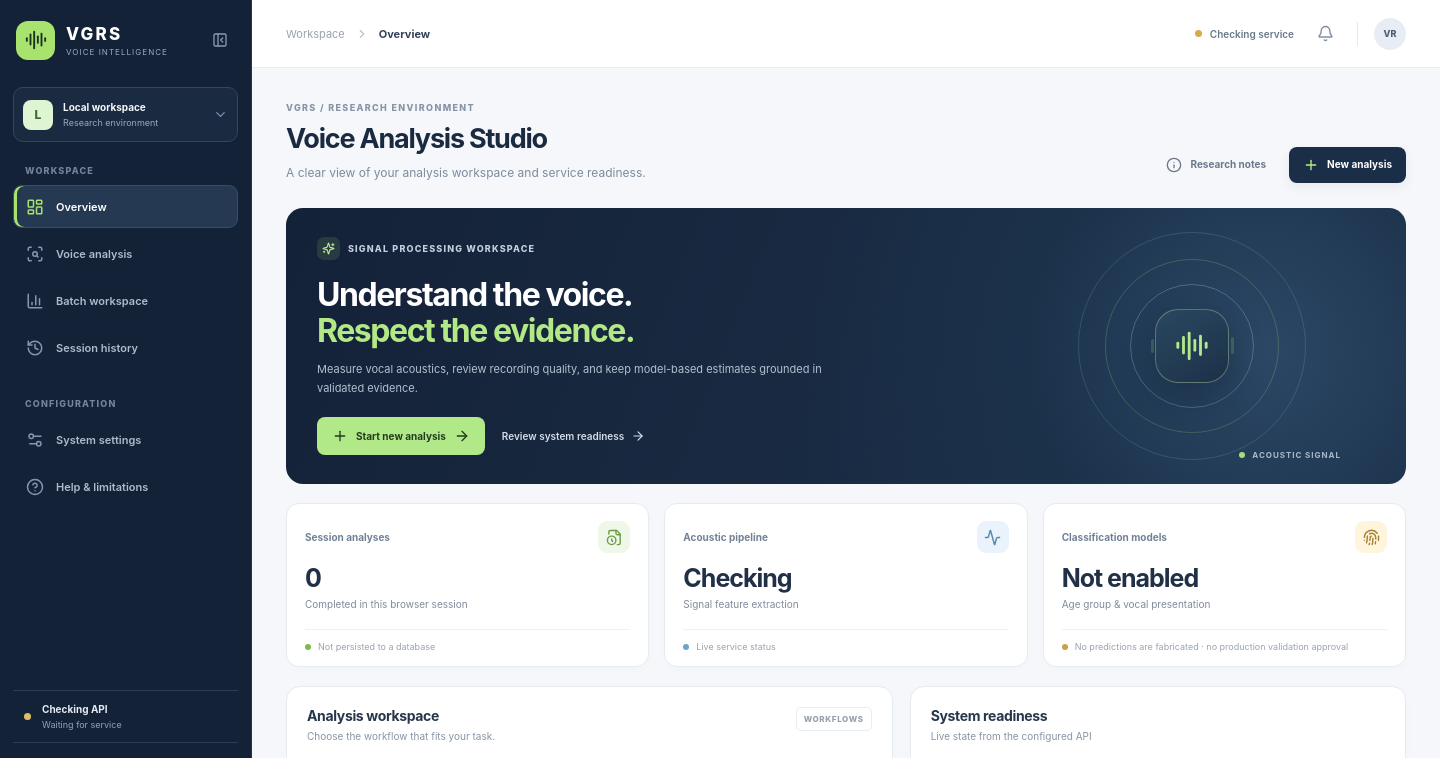
VGRS application workspace › requires explicit consent before enabling audio analysis
Click the button "Voice analysis": {"x": 126, "y": 254} [13,232,238,275]
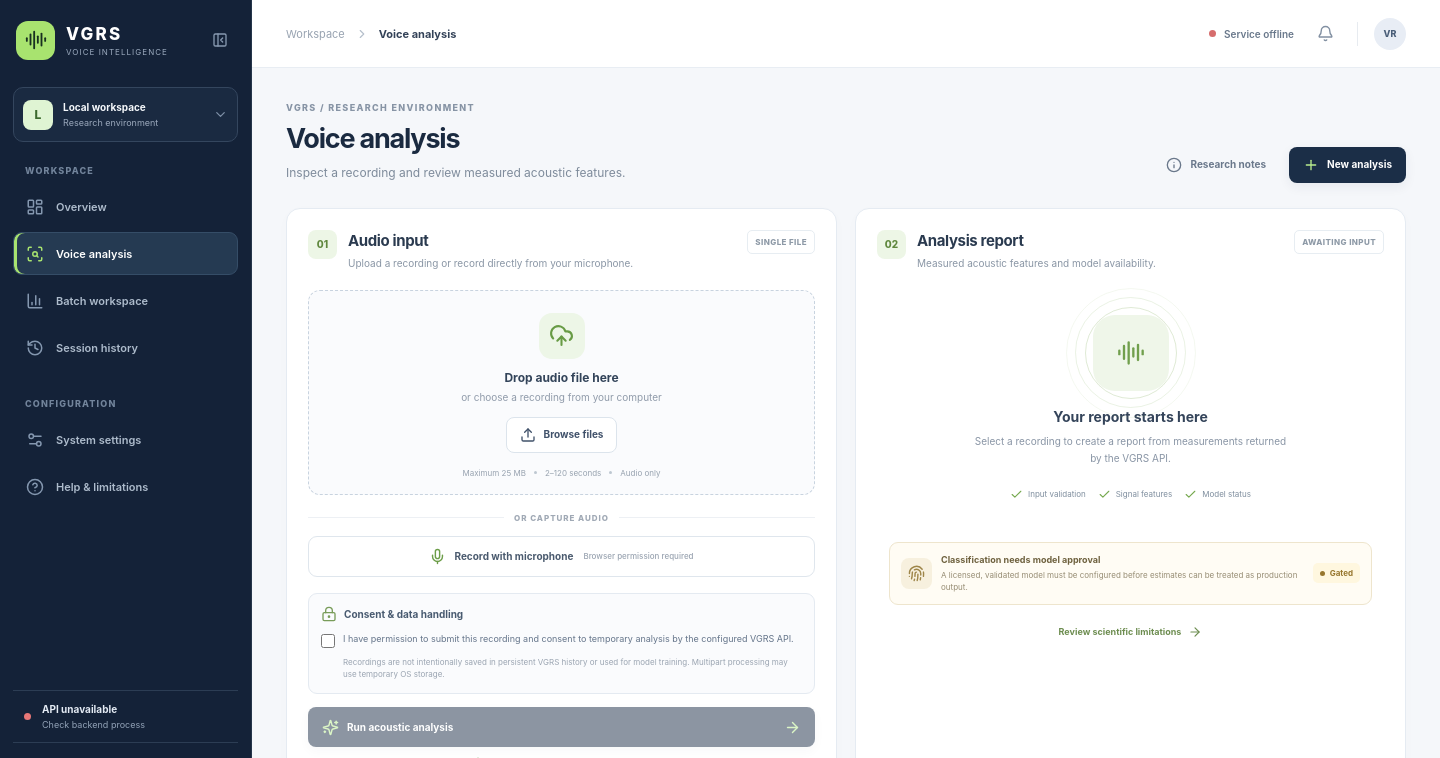
Now the checkbox labelled "I have permission to submit this recording" is not checked, box [321,634,335,648]
Now the button "Run acoustic analysis" is disabled, box [308,707,815,747]
